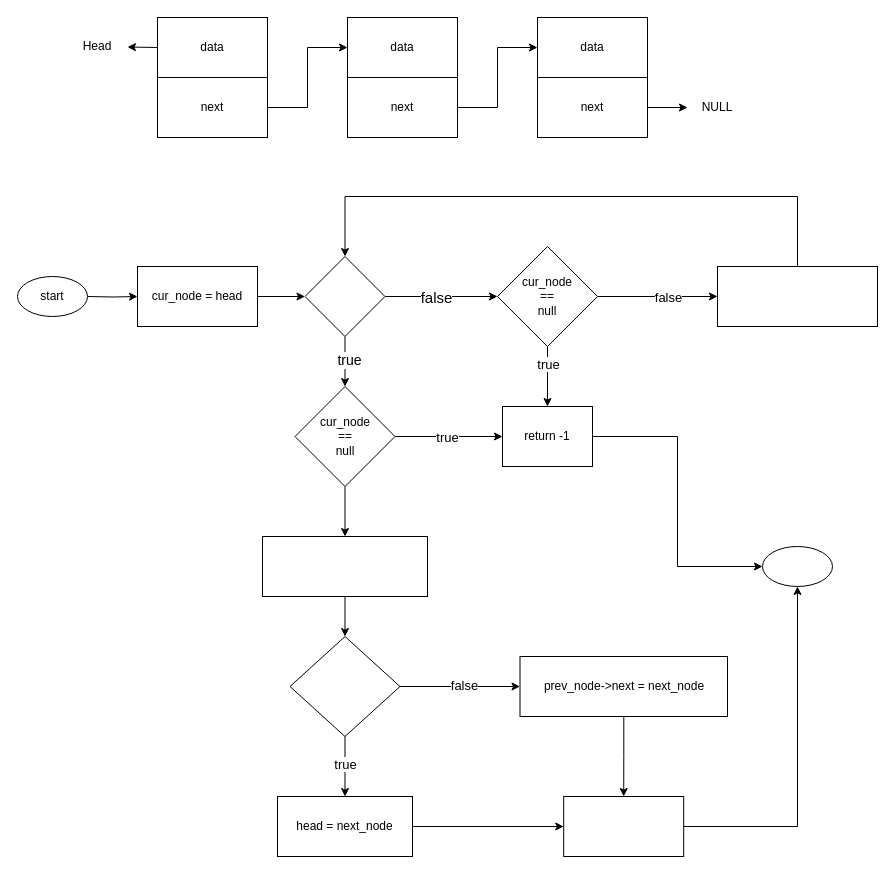
Image size: 895x874. Some labels were removed from this diagram. Here are the shapes that lost their labels. From the top down, the centre of each, then its label:
the point at 344,296: i == index
the point at 797,296: prev_node = cur_node cur_node = cur_node->next i++
the point at 345,566: next_node = cur_node->next
the point at 797,566: end
the point at 344,686: index == 0
the point at 623,826: return 1
